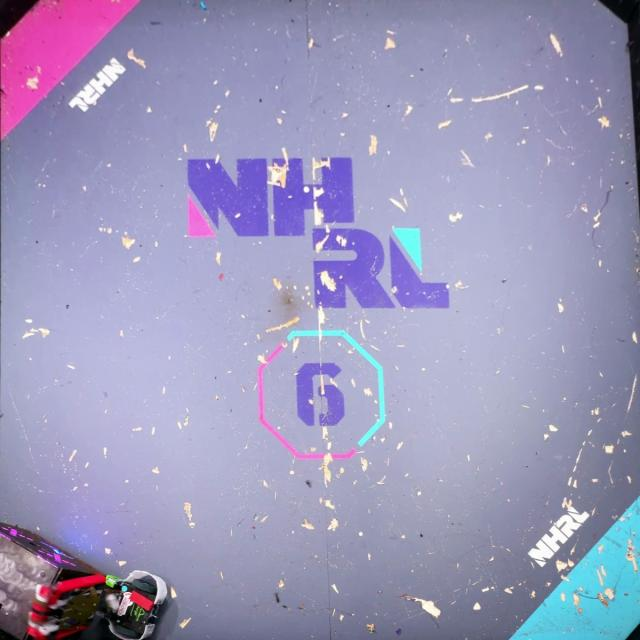housebot: (0, 518, 101, 640)
robot: (29, 570, 104, 640), (99, 569, 169, 640)
